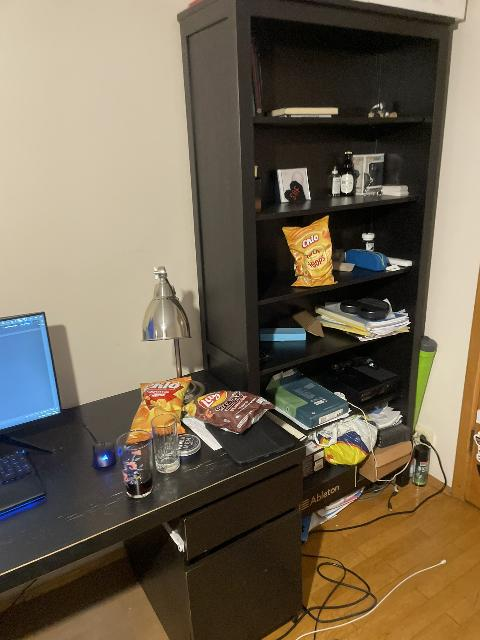Chio Cascaval 125g: (129, 375, 195, 442)
Chio Hula Hoops Cheese 70g: (282, 215, 335, 288)
Lays Beef Grilled Ribs 125g: (195, 389, 274, 435)
